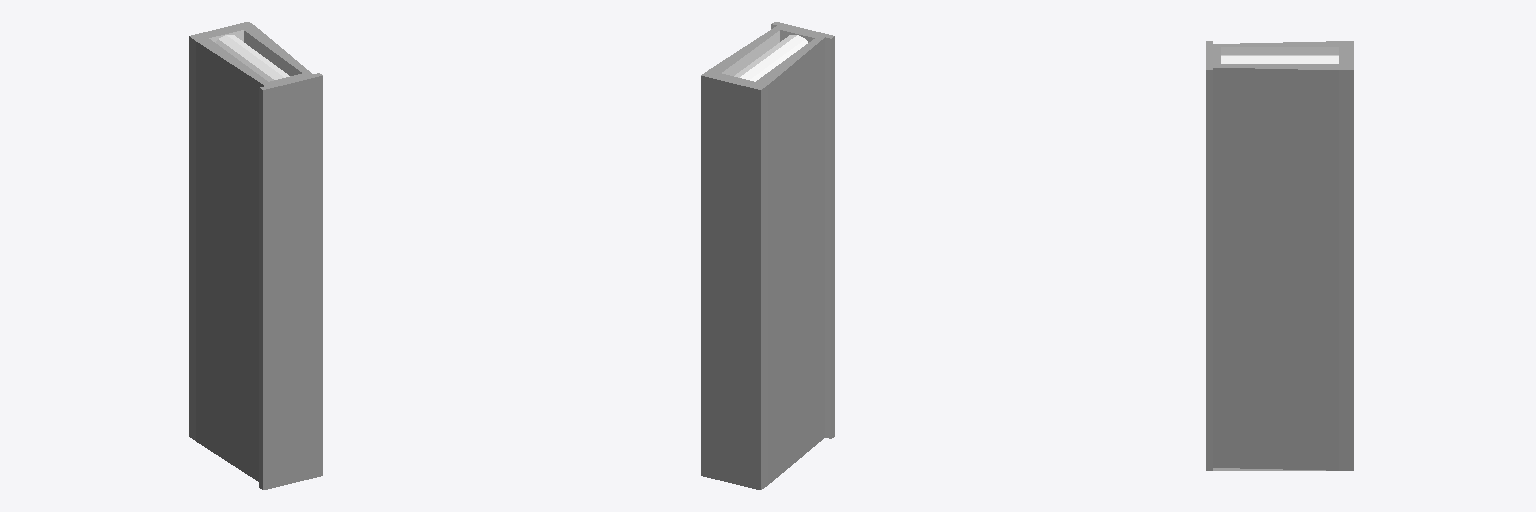
Rendered from Magazine_30.obj.
The picture shows the model from 3 angles: view 1: azimuth 30°, elevation 25°; view 2: azimuth 150°, elevation 25°; view 3: azimuth 270°, elevation 25°; orthographic projection.
Parts seen in each view (by area): view 1: Mesh1 Model; view 2: Mesh1 Model; view 3: Mesh1 Model.
Boxes of the visible parts, box(x1,y1,x2,y2) form: Mesh1 Model: box(189, 22, 322, 489); Mesh1 Model: box(701, 22, 834, 489); Mesh1 Model: box(1206, 41, 1353, 470).
Size of the model in its own units: 2.35 by 15.02 by 5.04.